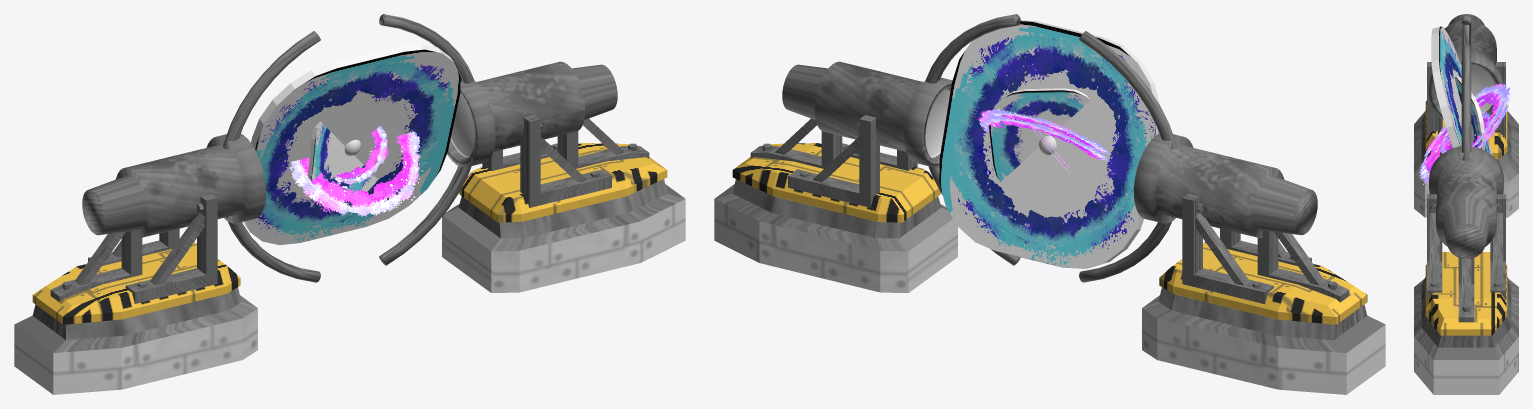
Rendered from Scrap 9.fbx.
The picture shows the model from 3 angles, left to right: view 1: azimuth 30°, elevation 25°; view 2: azimuth 150°, elevation 25°; view 3: azimuth 270°, elevation 25°; orthographic projection. The views are drawn at different scales.
Parts seen in each view (by area): view 1: Cube, Cube.001, galaxy blue, galaxy purple, BezierCircle, BezierCircle.001, galaxy blue.001, galaxy purple.001; view 2: Cube, Cube.001, galaxy blue, galaxy blue.001, BezierCircle, galaxy purple, BezierCircle.001; view 3: Cube.001, Cube, galaxy blue, galaxy purple, BezierCircle.001, galaxy blue.001, BezierCircle, galaxy purple.001.
Part boxes in pixels (x1,y1,x2,y2): Cube: (14, 134, 266, 394); Cube.001: (442, 61, 685, 292); galaxy blue: (244, 43, 460, 245); galaxy purple: (289, 131, 426, 216); BezierCircle: (223, 31, 320, 282); BezierCircle.001: (379, 14, 474, 265); galaxy blue.001: (308, 121, 377, 203); galaxy purple.001: (335, 126, 389, 186); Cube: (1133, 134, 1385, 394); Cube.001: (714, 61, 957, 292); galaxy blue: (939, 20, 1160, 268); galaxy blue.001: (989, 88, 1090, 181); BezierCircle: (1079, 31, 1176, 282); galaxy purple: (973, 108, 1111, 161); BezierCircle.001: (925, 14, 1020, 265); Cube.001: (1414, 146, 1518, 394); Cube: (1414, 14, 1518, 217); galaxy blue: (1431, 26, 1492, 155); galaxy purple: (1419, 83, 1510, 187); BezierCircle.001: (1461, 44, 1471, 160); galaxy blue.001: (1449, 76, 1485, 150); BezierCircle: (1461, 15, 1471, 46); galaxy purple.001: (1439, 112, 1490, 153).
Bounding box in the file's own units: 2363 × 1002 × 404.
